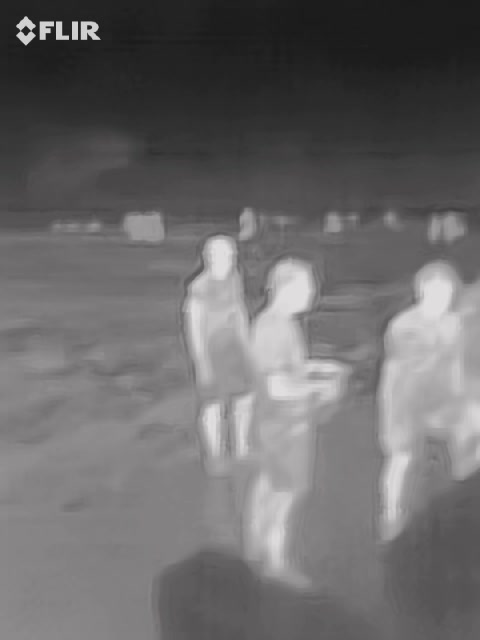head: (264, 255, 322, 326)
